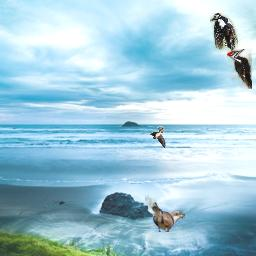Cuckoo: (145, 195, 185, 232)
Swallow: (148, 126, 166, 148)
Woodpecker: (210, 13, 238, 53), (227, 49, 252, 89)
